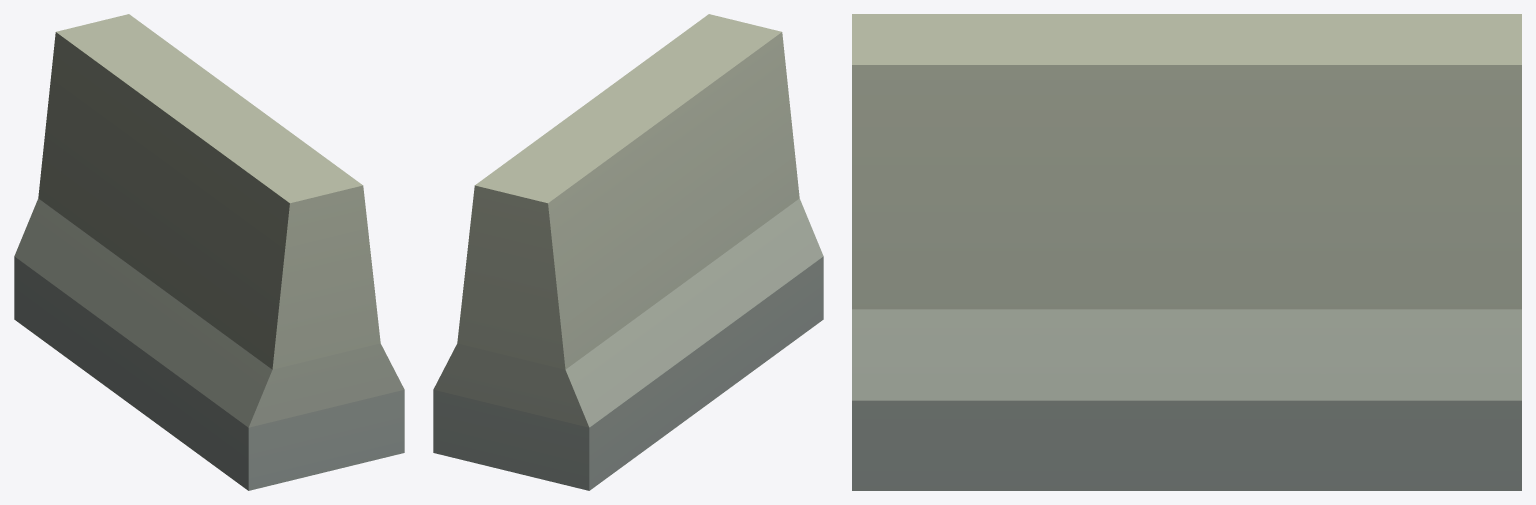
The model's file is Road_barrier_1.fbx.
The picture shows the model from 3 angles, left to right: view 1: azimuth 30°, elevation 25°; view 2: azimuth 150°, elevation 25°; view 3: azimuth 270°, elevation 25°; orthographic projection. The views are drawn at different scales.
Visible parts, largest first — view 1: Road_barrier_1; view 2: Road_barrier_1; view 3: Road_barrier_1.
Boxes of the visible parts, x1,y1,x2,y2 form: Road_barrier_1: (14,14,404,490); Road_barrier_1: (433,14,823,490); Road_barrier_1: (852,14,1521,490).
Size of the model in its own units: 75.55 by 128 by 196.
